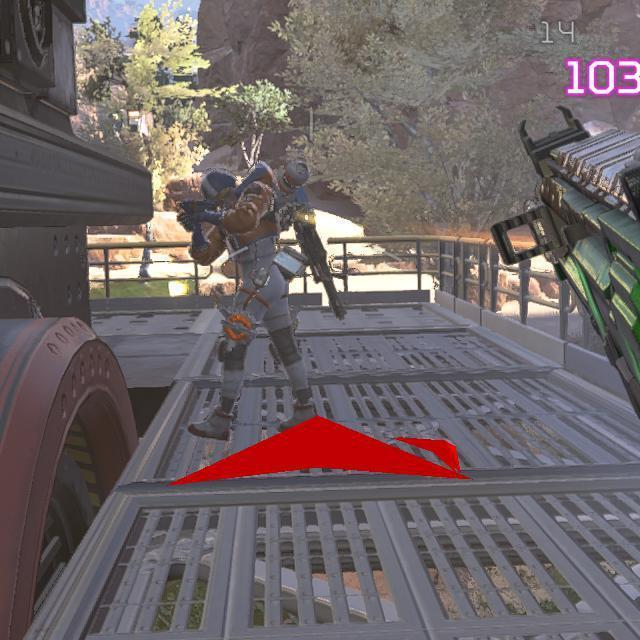avatar: (174, 161, 319, 444)
